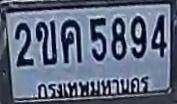2: (14, 22, 32, 65)
4: (151, 14, 166, 57)
5: (89, 17, 106, 60)
8: (111, 17, 125, 59)
9: (130, 15, 145, 58)
A02: (35, 20, 56, 64)
A04: (60, 19, 80, 63)
BKK: (33, 69, 153, 102)
